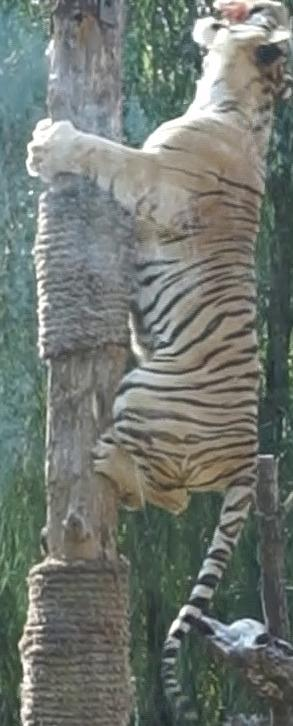tiger: (31, 0, 290, 612)
